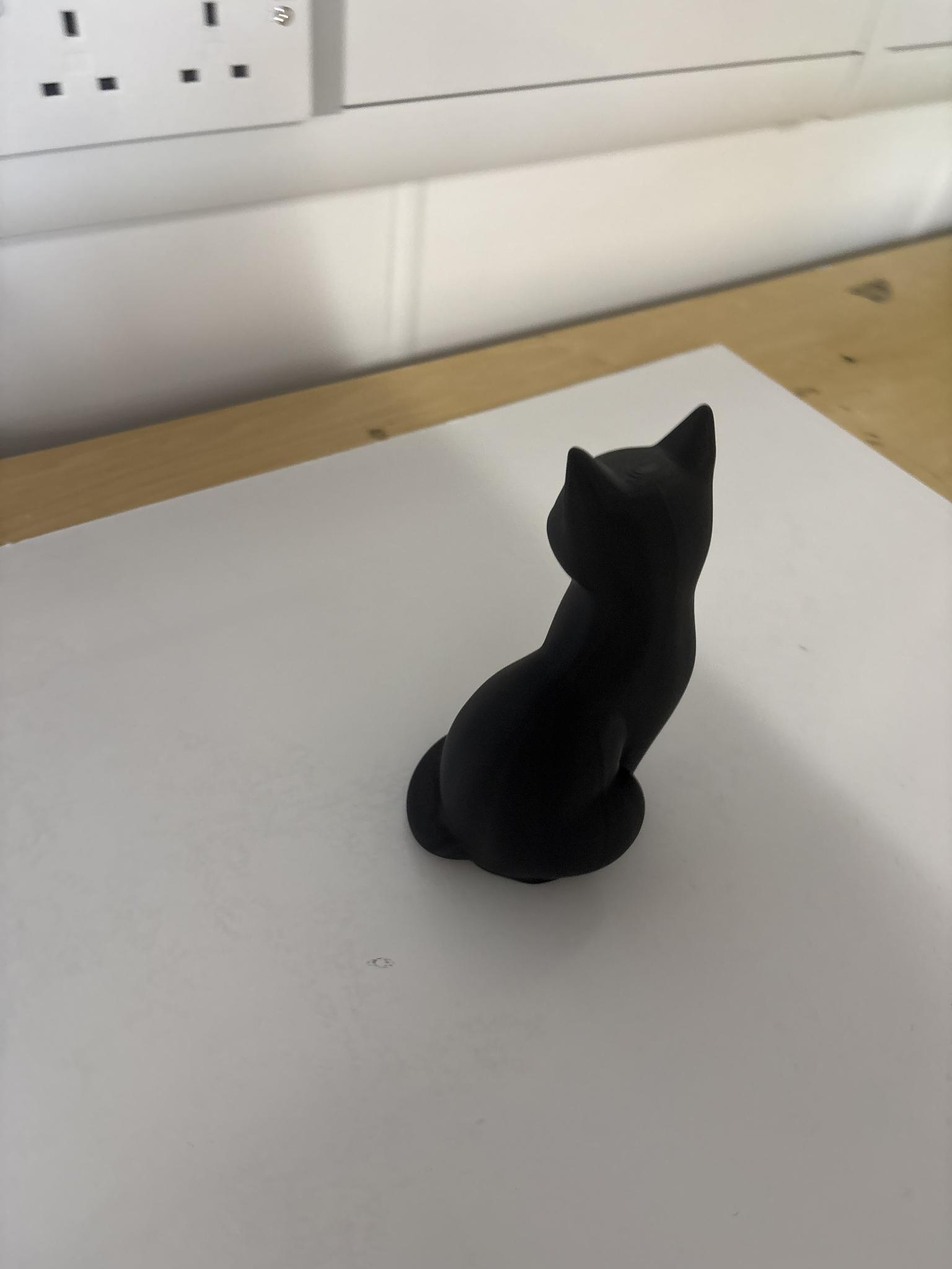cat: (408, 407, 715, 882)
